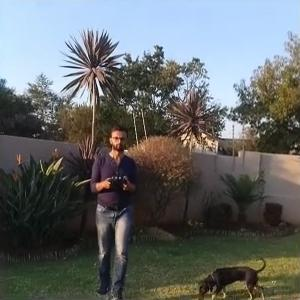follow: (87, 121, 137, 298)
null: (195, 254, 269, 299)
